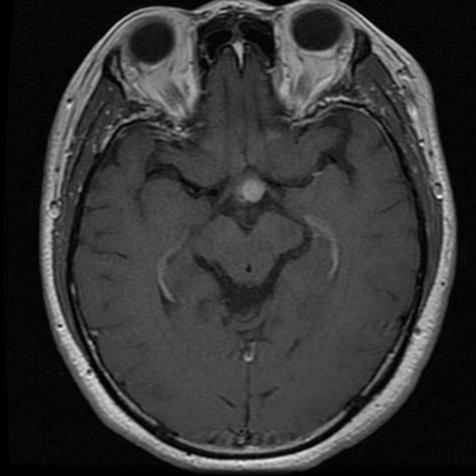Tumour-Pituitary: (233, 174, 274, 212)
